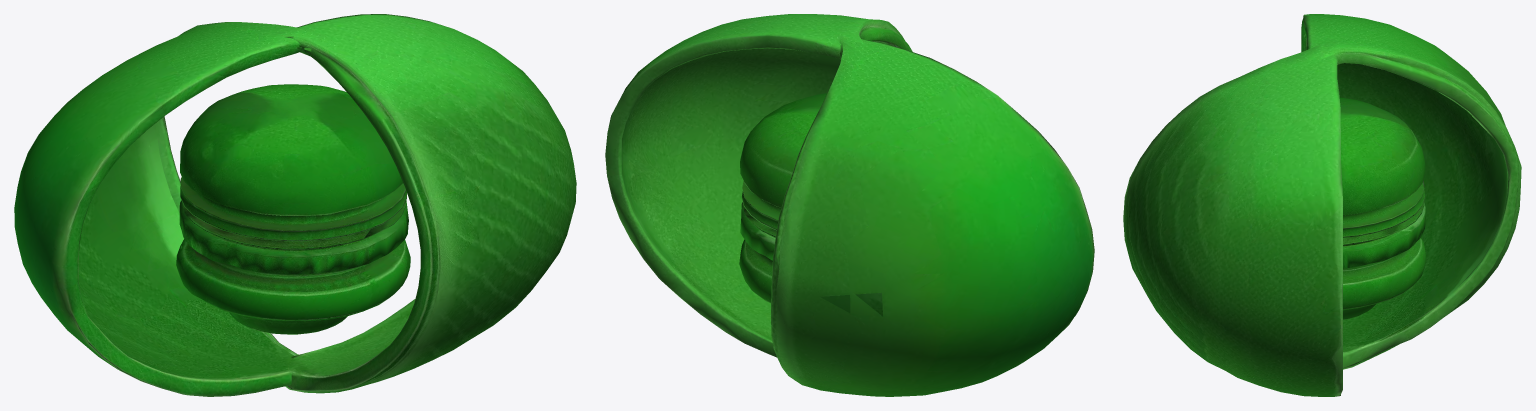
File: chloroplast.glb
The picture shows the model from 3 angles, left to right: view 1: azimuth 30°, elevation 25°; view 2: azimuth 150°, elevation 25°; view 3: azimuth 270°, elevation 25°; orthographic projection. The views are drawn at different scales.
Size of the model in its own units: 0.9551 by 0.644 by 0.7388.
1 material, 1 textured.
